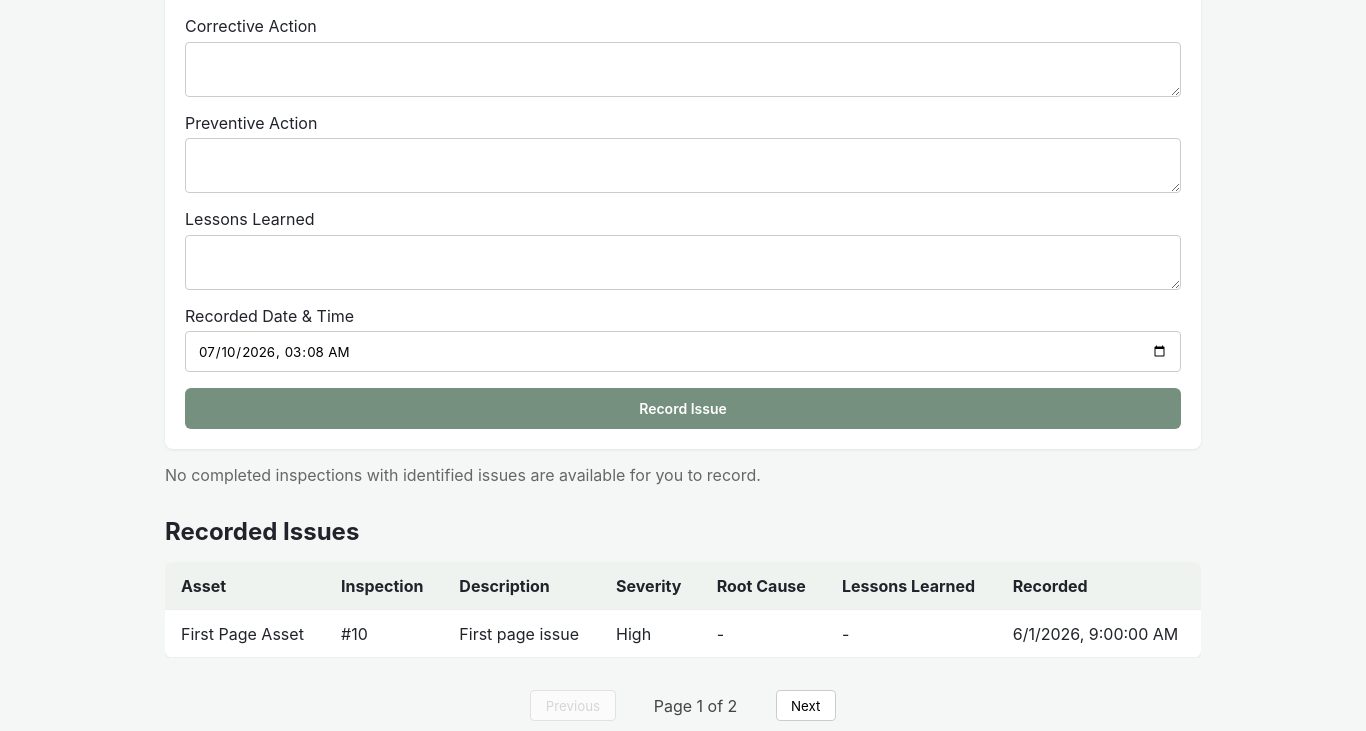
IssuesPage › loads the next page when Next is clicked
(page scrolled)
Check: the text "First page issue" is shown, box [443,610,600,658]
Click the button with test id "pagination-next": (806, 706) [776,690,836,721]
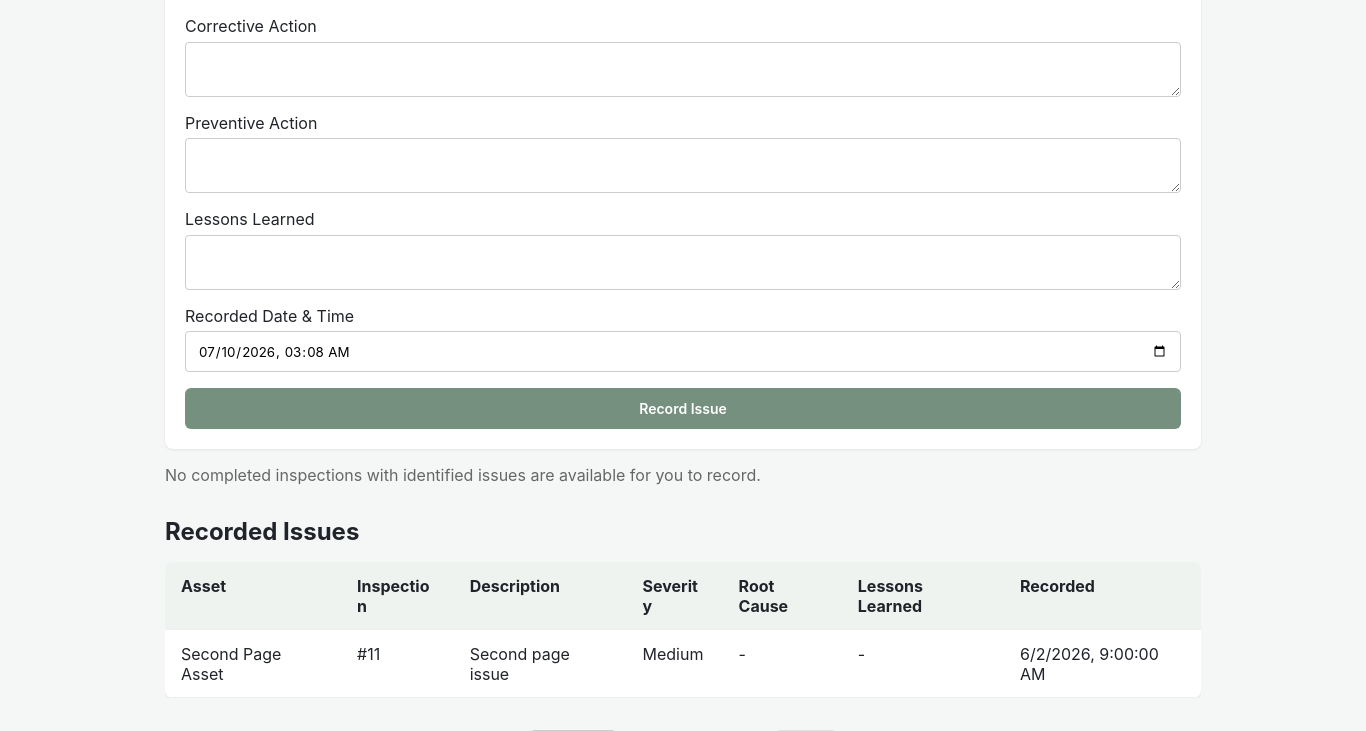
Check: the text "Second page issue" is shown, box [454,630,626,698]
